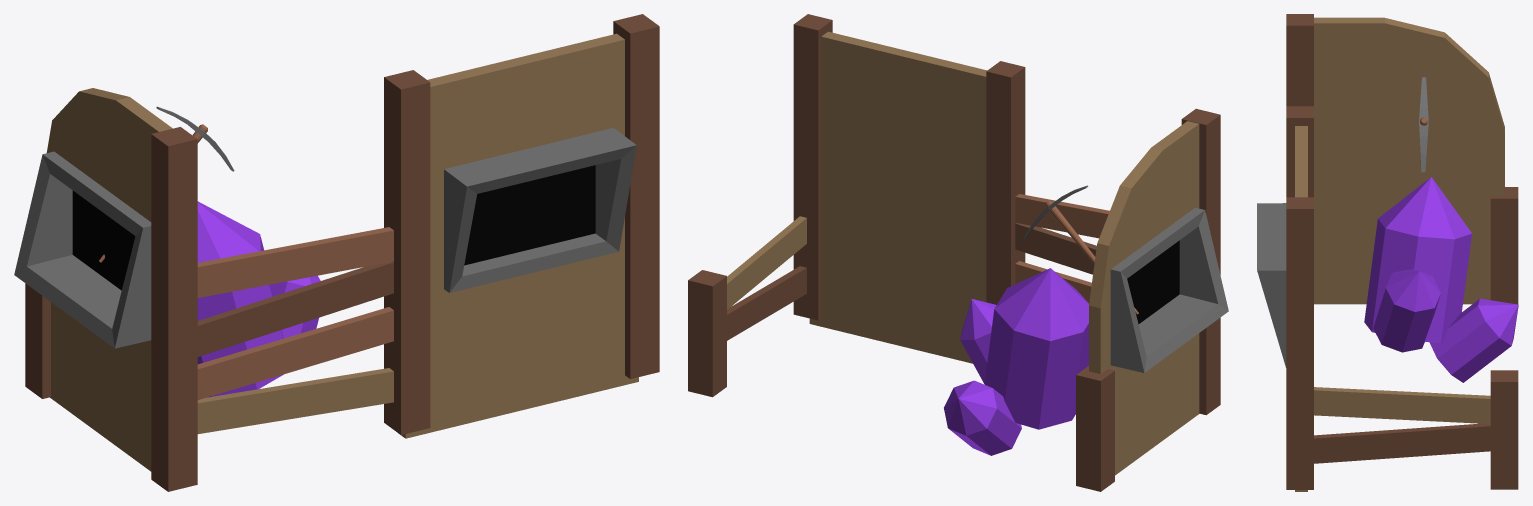
Rendered from Seperated_CrystalMiner.fbx.
The picture shows the model from 3 angles, left to right: view 1: azimuth 30°, elevation 25°; view 2: azimuth 150°, elevation 25°; view 3: azimuth 270°, elevation 25°; orthographic projection. The views are drawn at different scales.
Parts seen in each view (by area): view 1: Cube.289, Cube.298, Cube.292, Cube.293, Cube.291, Cube.294, Cube.297, Cube.296, Cube.295, Cube.299, Cube.019, Cube.301; view 2: Cube.289, Cube.298, Cube.299, Cube.293, Cube.291, Cube.292, Cube.290, Cube.019, Cube.300, Cube.287, Cube.288, Cube.296 (+4 smaller); view 3: Cube.298, Cube.299, Cube.291, Cube.287, Cube.288, Cube.289, Cube.300, Cube.301, Cube.290, Cube.019, Cube.292, Cube.293 (+1 smaller).
Boxes of the visible parts, left/top/right/bottom form: Cube.289: left=398, top=33, right=638, bottom=438; Cube.298: left=14, top=88, right=172, bottom=471; Cube.292: left=151, top=127, right=197, bottom=491; Cube.293: left=384, top=70, right=430, bottom=434; Cube.291: left=613, top=14, right=659, bottom=378; Cube.294: left=197, top=307, right=393, bottom=399; Cube.297: left=197, top=261, right=393, bottom=356; Cube.296: left=197, top=227, right=393, bottom=297; Cube.295: left=197, top=368, right=393, bottom=434; Cube.299: left=197, top=201, right=283, bottom=397; Cube.019: left=25, top=283, right=50, bottom=398; Cube.301: left=272, top=275, right=320, bottom=338; Cube.289: left=809, top=31, right=987, bottom=363; Cube.298: left=1089, top=121, right=1228, bottom=475; Cube.299: left=984, top=268, right=1088, bottom=429; Cube.293: left=986, top=61, right=1025, bottom=304; Cube.291: left=793, top=14, right=832, bottom=320; Cube.292: left=1181, top=108, right=1220, bottom=415; Cube.290: left=688, top=270, right=726, bottom=397; Cube.019: left=1076, top=366, right=1114, bottom=491; Cube.300: left=944, top=380, right=1021, bottom=455; Cube.287: left=727, top=216, right=806, bottom=309; Cube.288: left=727, top=266, right=806, bottom=340; Cube.296: left=1015, top=194, right=1109, bottom=238; Cube.298: left=1314, top=17, right=1504, bottom=304; Cube.299: left=1364, top=177, right=1471, bottom=342; Cube.291: left=1286, top=197, right=1313, bottom=489; Cube.287: left=1314, top=387, right=1490, bottom=423; Cube.288: left=1314, top=423, right=1490, bottom=463; Cube.289: left=1257, top=126, right=1307, bottom=491; Cube.300: left=1429, top=298, right=1518, bottom=382; Cube.301: left=1373, top=269, right=1440, bottom=352; Cube.290: left=1490, top=370, right=1518, bottom=489; Cube.019: left=1490, top=187, right=1518, bottom=304; Cube.292: left=1286, top=14, right=1313, bottom=106; Cube.293: left=1286, top=106, right=1313, bottom=197.
Size of the model in its own units: 317 by 212 by 169.
